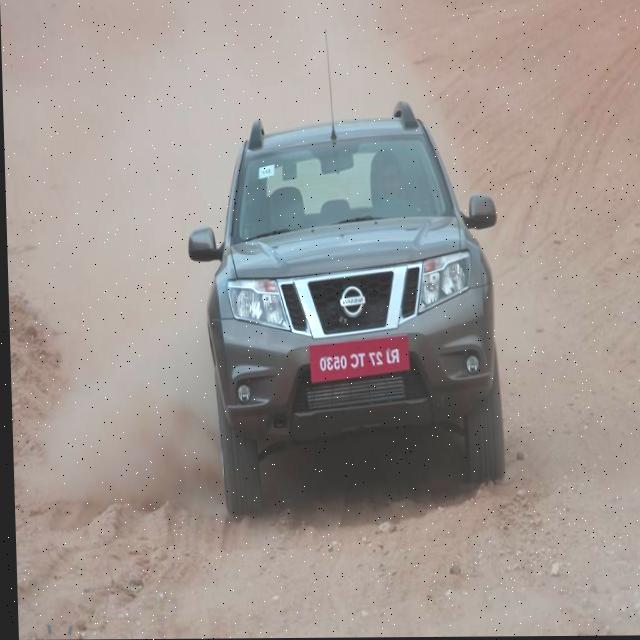plate: (306, 333, 409, 385)
